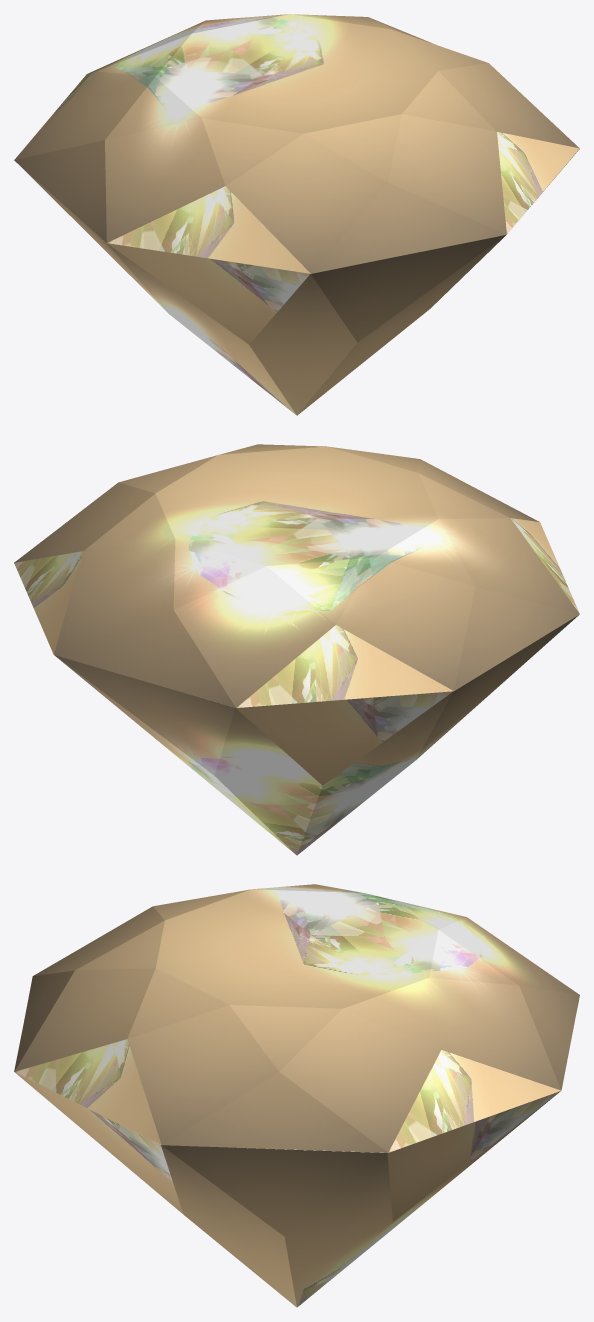
The model's file is diamante.obj.
The picture shows the model from 3 angles, top to bottom: view 1: azimuth 30°, elevation 25°; view 2: azimuth 150°, elevation 25°; view 3: azimuth 270°, elevation 25°; orthographic projection. The views are drawn at different scales.
Parts seen in each view (by area): view 1: Diamond_Disc; view 2: Diamond_Disc; view 3: Diamond_Disc.
Boxes of the visible parts, x1,y1,x2,y2 form: Diamond_Disc: [14, 14, 579, 415]; Diamond_Disc: [14, 444, 579, 855]; Diamond_Disc: [14, 884, 579, 1307].
Size of the model in its own units: 2.69 by 1.88 by 2.69.
1 material, 1 textured.
